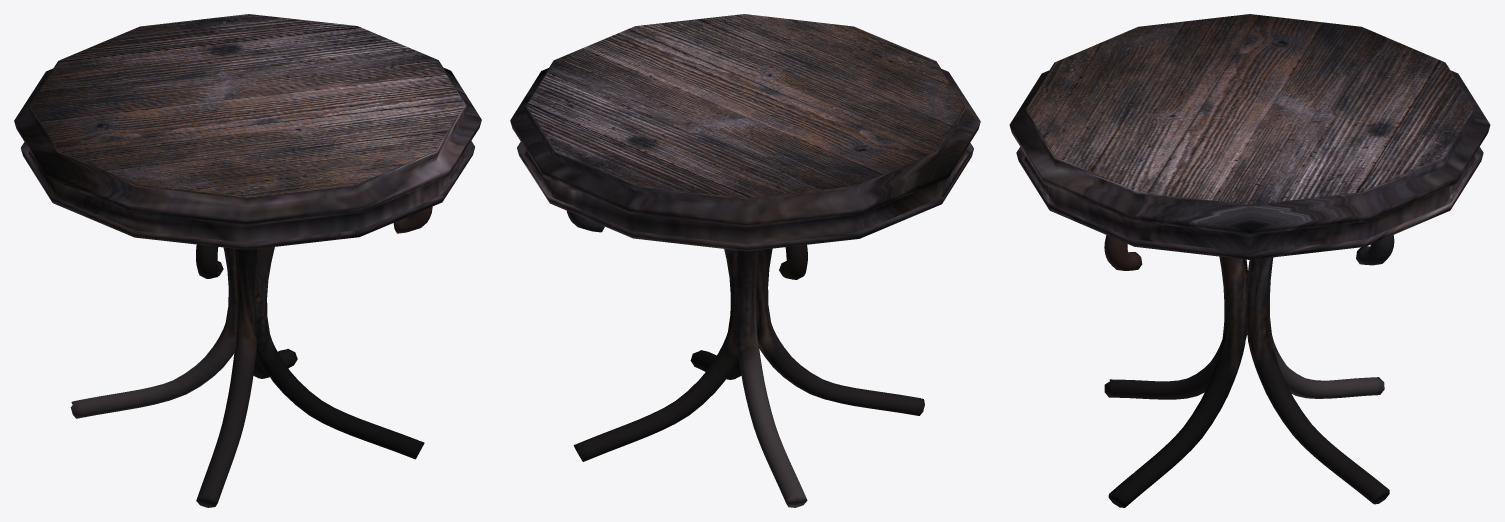
The model's file is table3.glb.
3 renders of one model, left to right at view 1: azimuth 30°, elevation 25°; view 2: azimuth 150°, elevation 25°; view 3: azimuth 270°, elevation 25°, orthographic. The views are drawn at different scales.
Visible parts, largest first — view 1: roundTable; view 2: roundTable; view 3: roundTable.
Part boxes in pixels (x1,y1,x2,y2): roundTable: (14, 14, 481, 507); roundTable: (510, 14, 980, 507); roundTable: (1009, 14, 1490, 507).
Bounding box in the file's own units: 1.68 × 1.31 × 1.66.
Materials: 1 (1 with a texture image).
